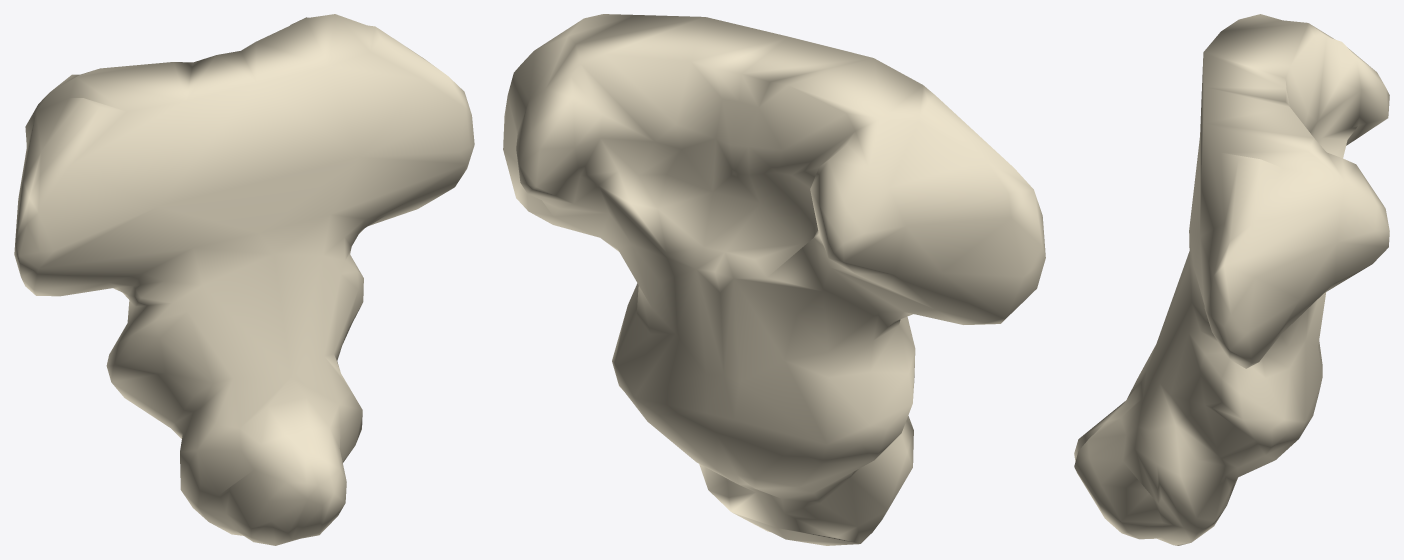
The model's file is esqueleto-coccyx.glb.
3 renders of one model, left to right at view 1: azimuth 30°, elevation 25°; view 2: azimuth 150°, elevation 25°; view 3: azimuth 270°, elevation 25°, orthographic. The views are drawn at different scales.
Visible parts, largest first — view 1: Coccyx; view 2: Coccyx; view 3: Coccyx.
Boxes of the visible parts, x1,y1,x2,y2 form: Coccyx: (14, 14, 474, 545); Coccyx: (503, 14, 1045, 545); Coccyx: (1074, 14, 1389, 545).
Bounding box in the file's own units: 0.0335 × 0.0308 × 0.0197.
